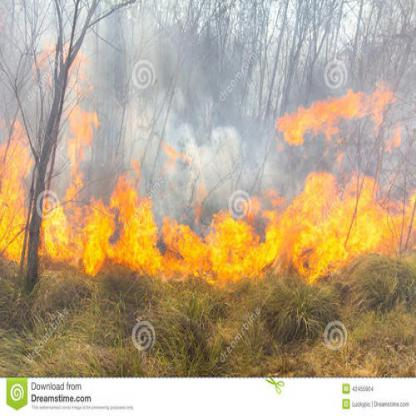fire: (1, 86, 415, 277)
